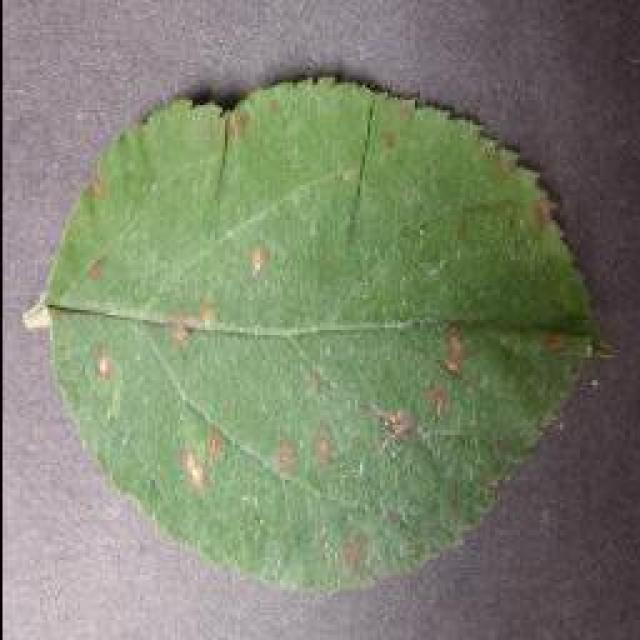apple healthy: (23, 70, 615, 595)
